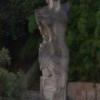Statue: (31, 1, 73, 100)
